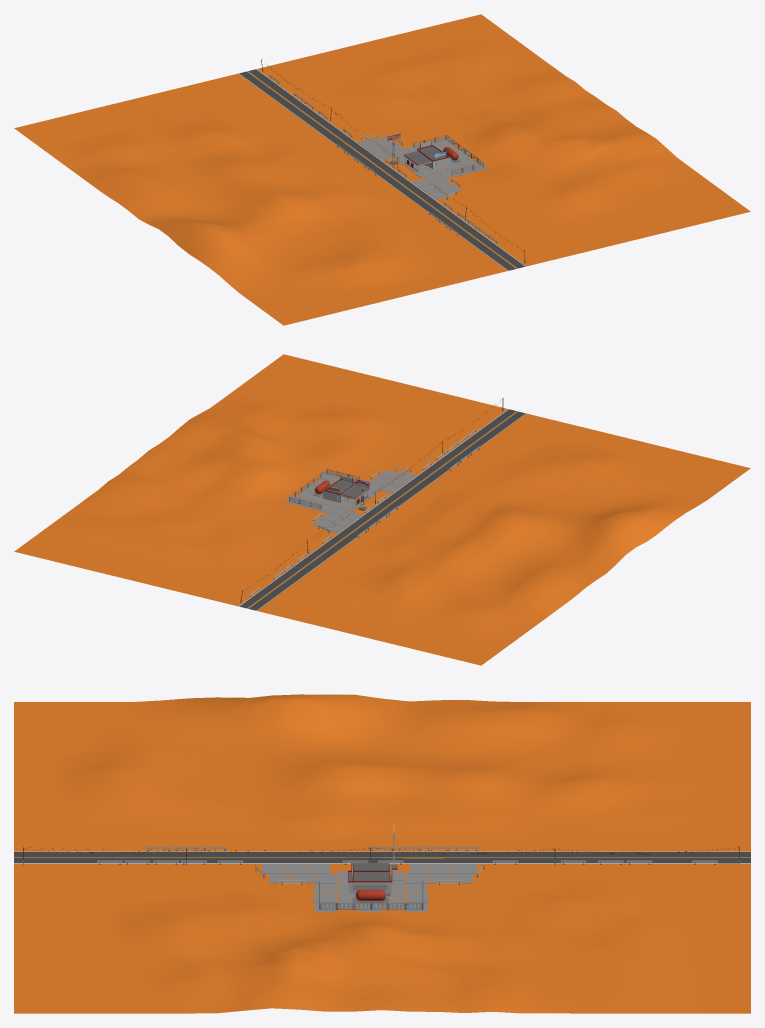
File: TileDesert4_2.fbx
3 views of the same model, one above another, from view 1: azimuth 30°, elevation 25°; view 2: azimuth 150°, elevation 25°; view 3: azimuth 270°, elevation 25° (orthographic). The views are drawn at different scales.
Parts seen in each view (by area): view 1: Plane.003, Road, Plane.038, Plane.033; view 2: Plane.003, Road, Plane.038, Plane.033; view 3: Plane.003, Road, Plane.038, Plane.033.
Part boxes in pixels (bbox=[...]): Plane.003: bbox=[14, 14, 750, 325]; Road: bbox=[238, 69, 526, 270]; Plane.038: bbox=[358, 136, 488, 199]; Plane.033: bbox=[404, 141, 451, 171]; Plane.003: bbox=[14, 354, 750, 665]; Road: bbox=[238, 409, 526, 610]; Plane.038: bbox=[285, 470, 416, 532]; Plane.033: bbox=[321, 475, 369, 505]; Plane.003: bbox=[14, 694, 750, 1013]; Road: bbox=[14, 851, 750, 863]; Plane.038: bbox=[262, 864, 476, 911]; Plane.033: bbox=[348, 863, 392, 896].
Size of the model in its own units: 20015 by 1210 by 20000.
